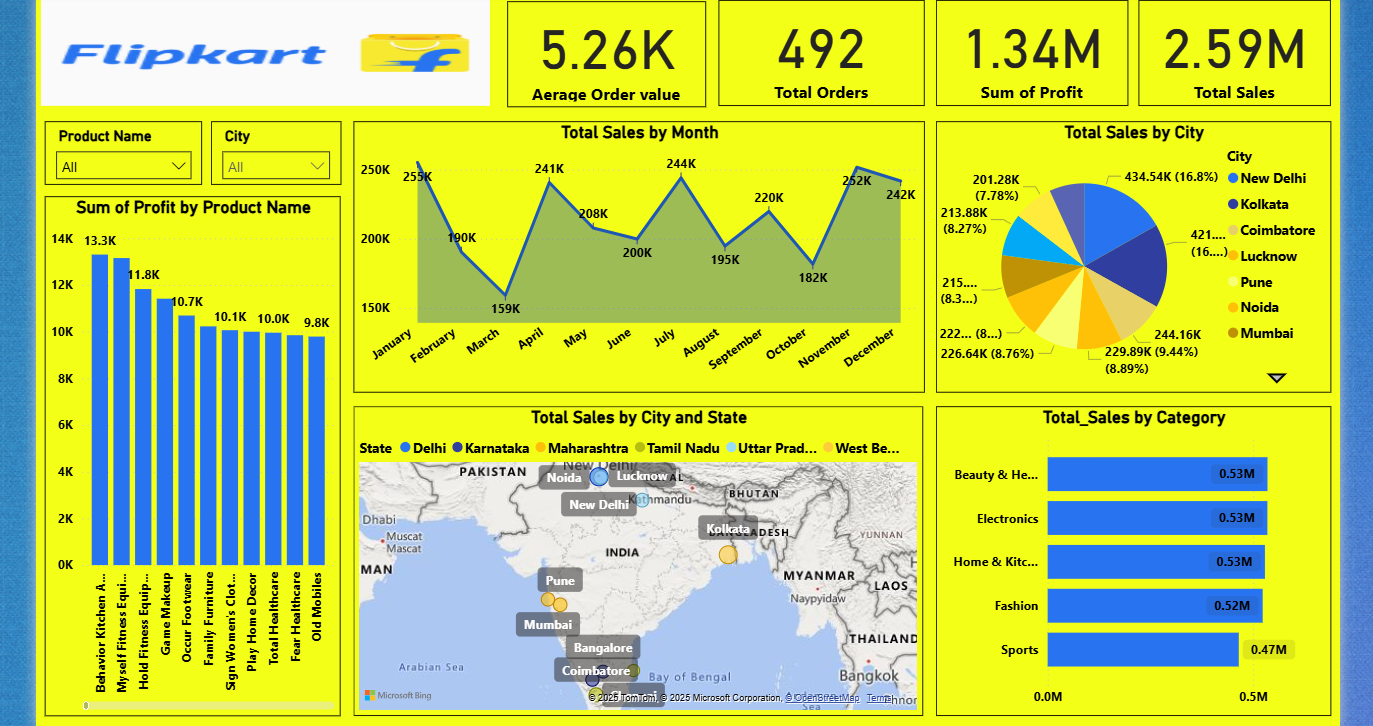

The dashboard page shown, as its layout file describes it:
{"tool":"powerbi","page":{"name":"Page 1","canvas":[1280,720],"ordinal":0},"visuals":[{"type":"card","fields":{"Values":["Flipkart_Ecommerce.Total_Sales"]},"box":[1082.2,4.9,189,109.2],"z":0},{"type":"card","fields":{"Values":["Flipkart_Ecommerce.Total_Orders"]},"box":[669.9,4.9,202.5,109.2],"z":1000},{"type":"card","fields":{"Values":["Flipkart_Ecommerce.Aerage_Order_value"]},"box":[462.6,6.1,195.1,108],"z":2000},{"type":"card","fields":{"Values":["Sum(Flipkart_Ecommerce.Profit)"]},"box":[883.4,4.9,189,109.2],"z":3000},{"type":"columnChart","fields":{"Category":["Flipkart_Ecommerce.Product_Name"],"Y":["Sum(Flipkart_Ecommerce.Profit)"]},"box":[8.6,197.5,290.8,510.4],"z":4000},{"type":"map","title":"Total Sales by City and State","fields":{"Category":["Flipkart_Ecommerce.City"],"Size":["Flipkart_Ecommerce.Total_Sales"],"Series":["Flipkart_Ecommerce.State"]},"box":[311.7,403.7,559.5,304.3],"z":5000},{"type":"lineChart","fields":{"Category":["Flipkart_Ecommerce.Order_Date.Variation.Date Hierarchy.Month"],"Y":["Flipkart_Ecommerce.Total_Sales"]},"box":[311.7,123.9,560.7,266.3],"z":6000},{"type":"pieChart","title":"Total Sales by City","fields":{"Y":["Flipkart_Ecommerce.Total_Sales"],"Category":["Flipkart_Ecommerce.City"]},"box":[883.4,123.9,387.7,266.3],"z":7000},{"type":"barChart","fields":{"Category":["Flipkart_Ecommerce.Category"],"Y":["Flipkart_Ecommerce.Total_Sales"]},"box":[883.4,403.7,387.7,304.3],"z":8000},{"type":"slicer","fields":{"Values":["Flipkart_Ecommerce.Product_Name"]},"box":[8.6,123.9,154.6,62.6],"z":9000},{"type":"slicer","fields":{"Values":["Flipkart_Ecommerce.City"]},"box":[171.8,123.9,127.6,62.6],"z":10000},{"type":"image","box":[0,2.5,450.3,114.1],"z":11001}]}

Visuals, with their boxes on the page's 1280x720 design canvas (x1, y1, x2, y2). These are canvas units, not pixel positions in the 1373x726 screenshot, which may show the page scaled, cropped or inside an application window:
card - Flipkart_Ecommerce.Total_Sales: 1082 5 1271 114
card - Flipkart_Ecommerce.Total_Orders: 670 5 872 114
card - Flipkart_Ecommerce.Aerage_Order_value: 463 6 658 114
card - Sum(Flipkart_Ecommerce.Profit): 883 5 1072 114
columnChart - Flipkart_Ecommerce.Product_Name x Sum(Flipkart_Ecommerce.Profit): 9 198 299 708
"Total Sales by City and State" map: 312 404 871 708
lineChart - Flipkart_Ecommerce.Order_Date.Variation.Date Hierarchy.Month x Flipkart_Ecommerce.Total_Sales: 312 124 872 390
"Total Sales by City" pieChart: 883 124 1271 390
barChart - Flipkart_Ecommerce.Category x Flipkart_Ecommerce.Total_Sales: 883 404 1271 708
slicer - Flipkart_Ecommerce.Product_Name: 9 124 163 186
slicer - Flipkart_Ecommerce.City: 172 124 299 186
image: 0 2 450 117
